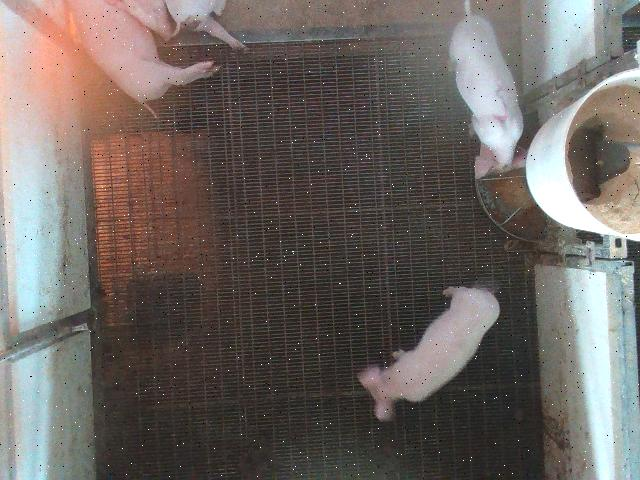pig-5: (450, 2, 526, 179)
